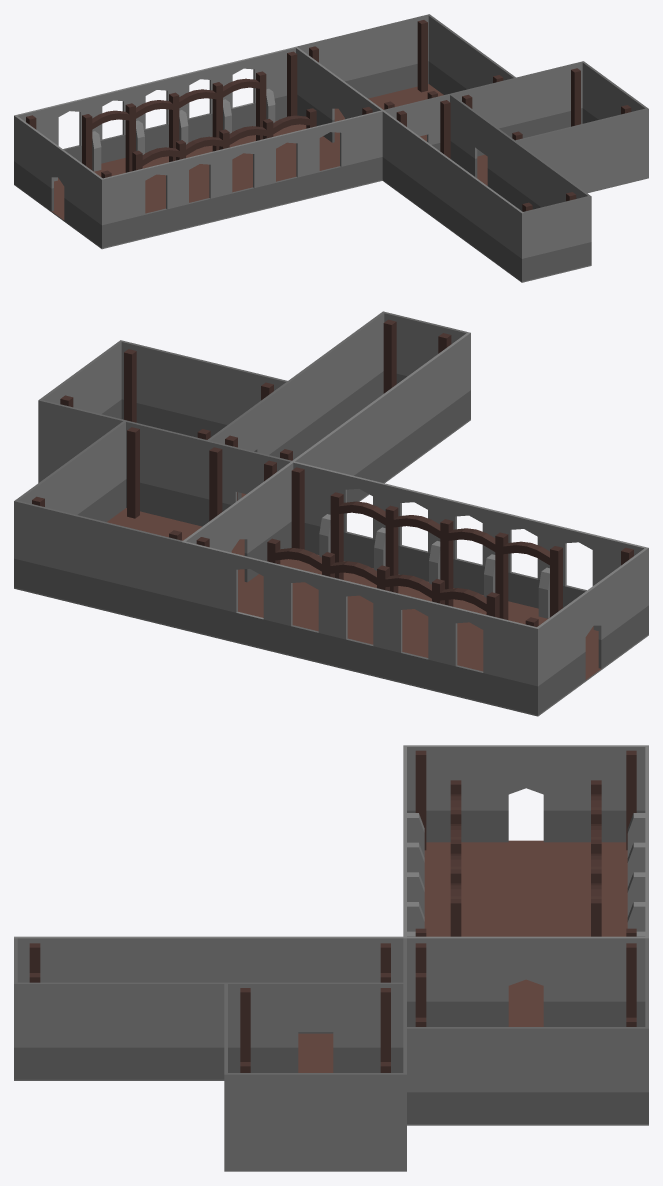
The model's file is Interior 1.fbx.
The picture shows the model from 3 angles, top to bottom: view 1: azimuth 30°, elevation 25°; view 2: azimuth 150°, elevation 25°; view 3: azimuth 270°, elevation 25°; orthographic projection. The views are drawn at different scales.
Visible parts, largest first — view 1: Cube.001; view 2: Cube.001; view 3: Cube.001.
Part boxes in pixels (x1=…): Cube.001: x1=14, y1=14, x2=648, y2=282; Cube.001: x1=14, y1=311, x2=648, y2=716; Cube.001: x1=14, y1=745, x2=648, y2=1171.
Bounding box in the file's own units: 44.4 × 6.1 × 36.2.
